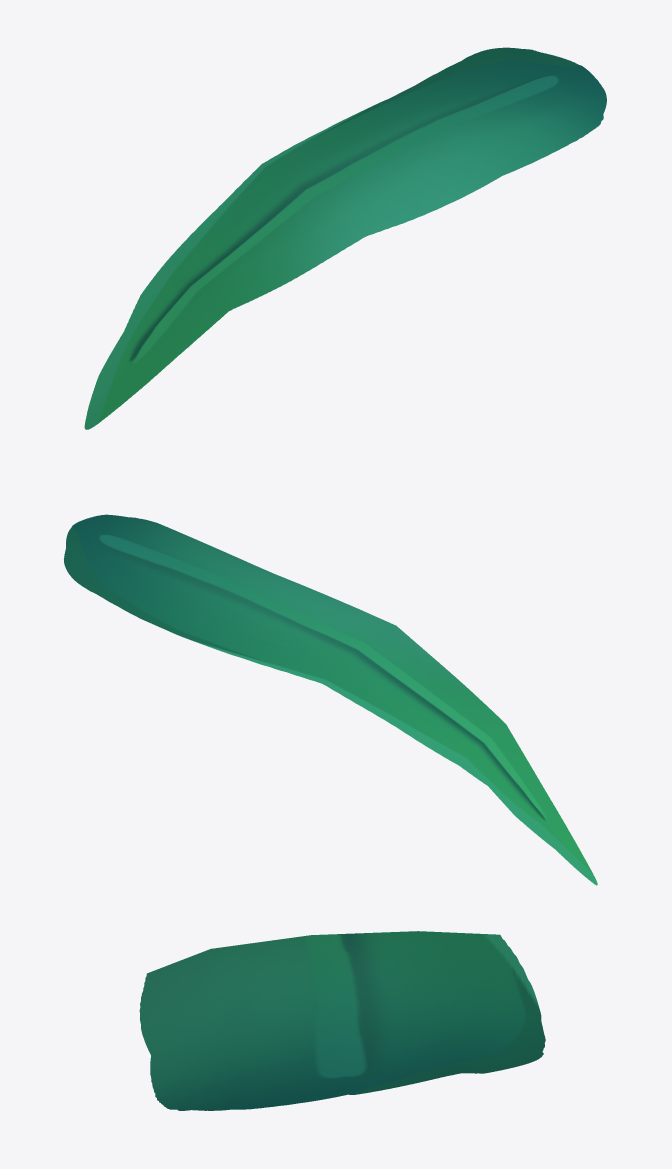
Rendered from HojaBasica2.fbx.
3 views of the same model, one above another, from view 1: azimuth 30°, elevation 25°; view 2: azimuth 150°, elevation 25°; view 3: azimuth 270°, elevation 25° (orthographic). The views are drawn at different scales.
Parts seen in each view (by area): view 1: HojaBasica2; view 2: HojaBasica2; view 3: HojaBasica2.
Boxes of the visible parts, x1=… form: HojaBasica2: x1=84, y1=47, x2=606, y2=429; HojaBasica2: x1=64, y1=514, x2=597, y2=885; HojaBasica2: x1=139, y1=931, x2=545, y2=1110.
Size of the model in its own units: 407 by 179 by 158.
1 material, 1 textured.
